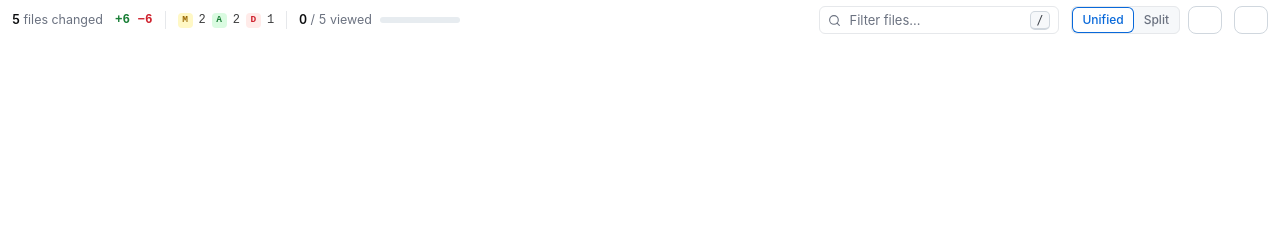
Test case: the secret gate (Design §14.3, contracts `selectSecretGate`) › gates an unscanned comparison as unknown, not as clean
The width and height of the screenshot is (1280, 239).
Click the button named "Export": [1251, 20] box [1234, 6, 1268, 34]
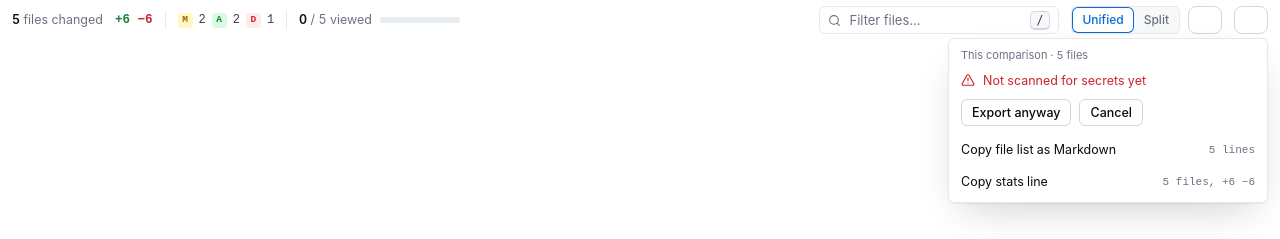
Now the text "Not scanned for secrets yet" is shown, box [983, 71, 1146, 91]
Now the number of menu items is 2, box [949, 134, 1267, 166]; [949, 166, 1267, 198]
